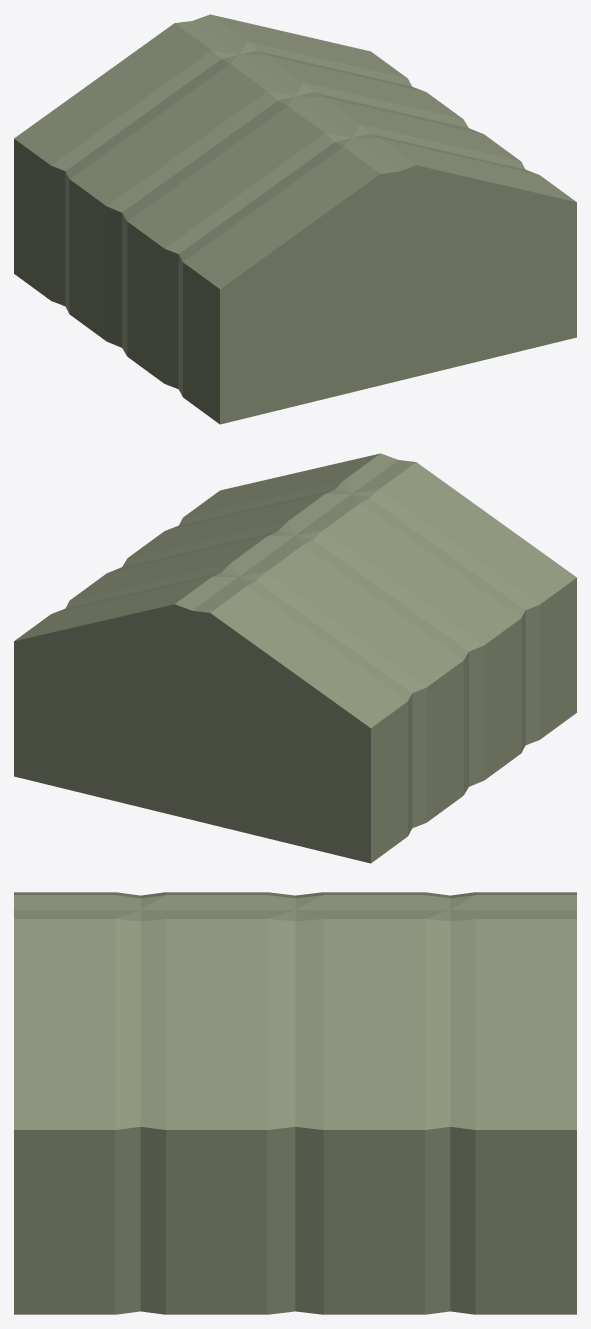
The model's file is WarehouseShellPlane.fbx.
3 renders of one model, top to bottom at view 1: azimuth 30°, elevation 25°; view 2: azimuth 150°, elevation 25°; view 3: azimuth 270°, elevation 25°, orthographic. The views are drawn at different scales.
Parts seen in each view (by area): view 1: WarehouseShellPlane; view 2: WarehouseShellPlane; view 3: WarehouseShellPlane.
Part boxes in pixels (x1,y1,x2,y2): WarehouseShellPlane: (14, 14, 576, 424); WarehouseShellPlane: (14, 453, 576, 863); WarehouseShellPlane: (14, 892, 576, 1314).
Bounding box in the file's own units: 180 × 102 × 180.
